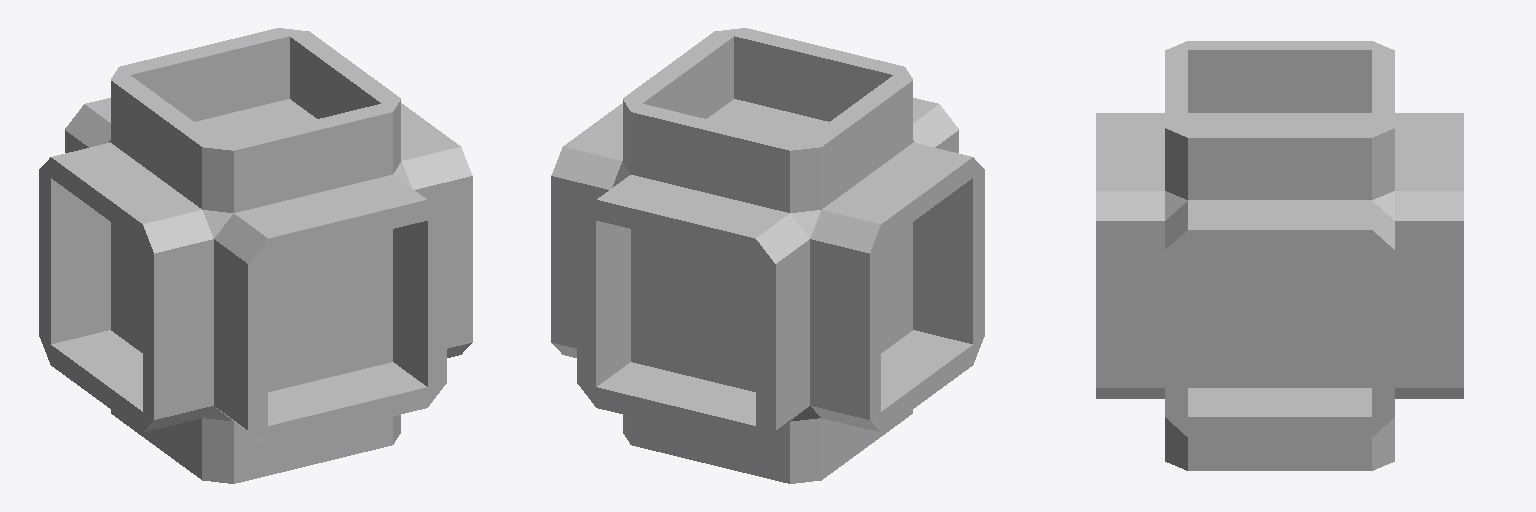
Rendered from pipe_transport_basic.obj.
The picture shows the model from 3 angles: view 1: azimuth 30°, elevation 25°; view 2: azimuth 150°, elevation 25°; view 3: azimuth 270°, elevation 25°; orthographic projection.
Parts seen in each view (by area): view 1: Mesh161 Side_Texture_Plate70 Side_Texture_Plate_Mirror35 Texture, Mesh482 Texture_Plate_S1, Mesh456 Side_Texture_Plate49 Side_Texture_Plate_Mirror25 Texture, Mesh328 Side_Texture_Plate75 Side_Texture_Plate_Mirror38 Texture, Mesh206 Edge_Side_U_SW Side_U, Mesh499 Side_3 Side_W, Mesh284 Support_S_U, Mesh227 Edge_Side_S_UW Side_S, Mesh452 Side_D4 Side_D, Mesh495 Edge_Side_S_US Side_E, Mesh5 Side_Texture_Plate44 Side_Texture_Plate_Mirror22 Texture_S, Mesh367 Side_Texture_Plate38 Side_Texture_Plate_Mirror19 Texture (+28 smaller); view 2: Mesh501 Texture_Plate_N1, Mesh266 Side_Texture_Plate73 Side_Texture_Plate_Mirror37 Texture, Mesh325 Side_Texture_Plate58 Side_Texture_Plate_Mirror29 Texture, Mesh7 Edge_Side_U_NW Side_U, Mesh578 Side_ Side_W, Mesh510 Edge_Side2 Side_N, Mesh134 Side_D3 Side_D, Mesh548 Side_Texture_Plate1 Side_Texture_Plate_Mirror1 Texture_S, Mesh238 Edge_Side_S_UN Side_E, Mesh519 Texture_Plate_N, Mesh166 Mount_U_S, Mesh132 Side_Texture_Plate62 Side_Texture_Plate_Mirror31 Texture (+28 smaller); view 3: Mesh123 Texture_Plate_E1, Mesh261 Side_Texture_Plate41 Side_Texture_Plate_Mirror21 Texture, Mesh37 Side_Texture_Plate78 Side_Texture_Plate_Mirror39 Texture_, Mesh267 Side_Texture_Plate14 Side_Texture_Plate_Mirror7 Texture_, Mesh101 Side_Texture_Plate67 Side_Texture_Plate_Mirror34 Texture, Mesh16 Edge_Side1 Side_N, Mesh551 Edge_Side_S_UE Side_S, Mesh263 Side_Texture_Plate93 Side_Texture_Plate_Mirror47 Texture, Mesh24 Edge_Side_U_NE Side_U, Mesh138 Edge_Side_U_SE Side_U, Mesh98 Side_Texture_Plate31 Side_Texture_Plate_Mirror16 Texture_, Mesh548 Side_Texture_Plate1 Side_Texture_Plate_Mirror1 Texture_S (+28 smaller).
Boxes of the visible parts, x1=… form: Mesh161 Side_Texture_Plate70 Side_Texture_Plate_Mirror35 Texture: x1=254, y1=117, x2=372, y2=207; Mesh482 Texture_Plate_S1: x1=268, y1=234, x2=372, y2=371; Mesh456 Side_Texture_Plate49 Side_Texture_Plate_Mirror25 Texture: x1=154, y1=260, x2=213, y2=398; Mesh328 Side_Texture_Plate75 Side_Texture_Plate_Mirror38 Texture: x1=150, y1=41, x2=269, y2=120; Mesh206 Edge_Side_U_SW Side_U: x1=191, y1=134, x2=253, y2=212; Mesh499 Side_3 Side_W: x1=131, y1=201, x2=213, y2=273; Mesh284 Support_S_U: x1=294, y1=244, x2=332, y2=364; Mesh227 Edge_Side_S_UW Side_S: x1=214, y1=209, x2=287, y2=284; Mesh452 Side_D4 Side_D: x1=191, y1=418, x2=253, y2=483; Mesh495 Edge_Side_S_US Side_E: x1=401, y1=138, x2=472, y2=205; Mesh5 Side_Texture_Plate44 Side_Texture_Plate_Mirror22 Texture_S: x1=393, y1=226, x2=427, y2=364; Mesh367 Side_Texture_Plate38 Side_Texture_Plate_Mirror19 Texture: x1=255, y1=180, x2=407, y2=233; Mesh501 Texture_Plate_N1: x1=651, y1=234, x2=755, y2=371; Mesh266 Side_Texture_Plate73 Side_Texture_Plate_Mirror37 Texture: x1=651, y1=117, x2=769, y2=207; Mesh325 Side_Texture_Plate58 Side_Texture_Plate_Mirror29 Texture: x1=810, y1=260, x2=869, y2=397; Mesh7 Edge_Side_U_NW Side_U: x1=770, y1=134, x2=832, y2=212; Mesh578 Side_ Side_W: x1=810, y1=201, x2=892, y2=273; Mesh510 Edge_Side2 Side_N: x1=736, y1=209, x2=809, y2=284; Mesh134 Side_D3 Side_D: x1=770, y1=418, x2=832, y2=483; Mesh548 Side_Texture_Plate1 Side_Texture_Plate_Mirror1 Texture_S: x1=616, y1=180, x2=769, y2=233; Mesh238 Edge_Side_S_UN Side_E: x1=551, y1=138, x2=622, y2=205; Mesh519 Texture_Plate_N: x1=651, y1=235, x2=755, y2=370; Mesh166 Mount_U_S: x1=794, y1=42, x2=844, y2=121; Mesh132 Side_Texture_Plate62 Side_Texture_Plate_Mirror31 Texture: x1=834, y1=152, x2=961, y2=215; Mesh123 Texture_Plate_E1: x1=1211, y1=250, x2=1348, y2=366; Mesh261 Side_Texture_Plate41 Side_Texture_Plate_Mirror21 Texture: x1=1096, y1=242, x2=1164, y2=366; Mesh37 Side_Texture_Plate78 Side_Texture_Plate_Mirror39 Texture_: x1=1211, y1=138, x2=1348, y2=199; Mesh267 Side_Texture_Plate14 Side_Texture_Plate_Mirror7 Texture_: x1=1395, y1=242, x2=1463, y2=366; Mesh101 Side_Texture_Plate67 Side_Texture_Plate_Mirror34 Texture: x1=1211, y1=50, x2=1348, y2=112; Mesh16 Edge_Side1 Side_N: x1=1395, y1=181, x2=1463, y2=241; Mesh551 Edge_Side_S_UE Side_S: x1=1096, y1=181, x2=1164, y2=241; Mesh263 Side_Texture_Plate93 Side_Texture_Plate_Mirror47 Texture: x1=1211, y1=438, x2=1348, y2=470; Mesh24 Edge_Side_U_NE Side_U: x1=1349, y1=118, x2=1394, y2=199; Mesh138 Edge_Side_U_SE Side_U: x1=1165, y1=118, x2=1210, y2=199; Mesh98 Side_Texture_Plate31 Side_Texture_Plate_Mirror16 Texture_: x1=1211, y1=388, x2=1348, y2=416; Mesh548 Side_Texture_Plate1 Side_Texture_Plate_Mirror1 Texture_S: x1=1395, y1=123, x2=1463, y2=180.
Size of the model in its own units: 100 by 100 by 100.